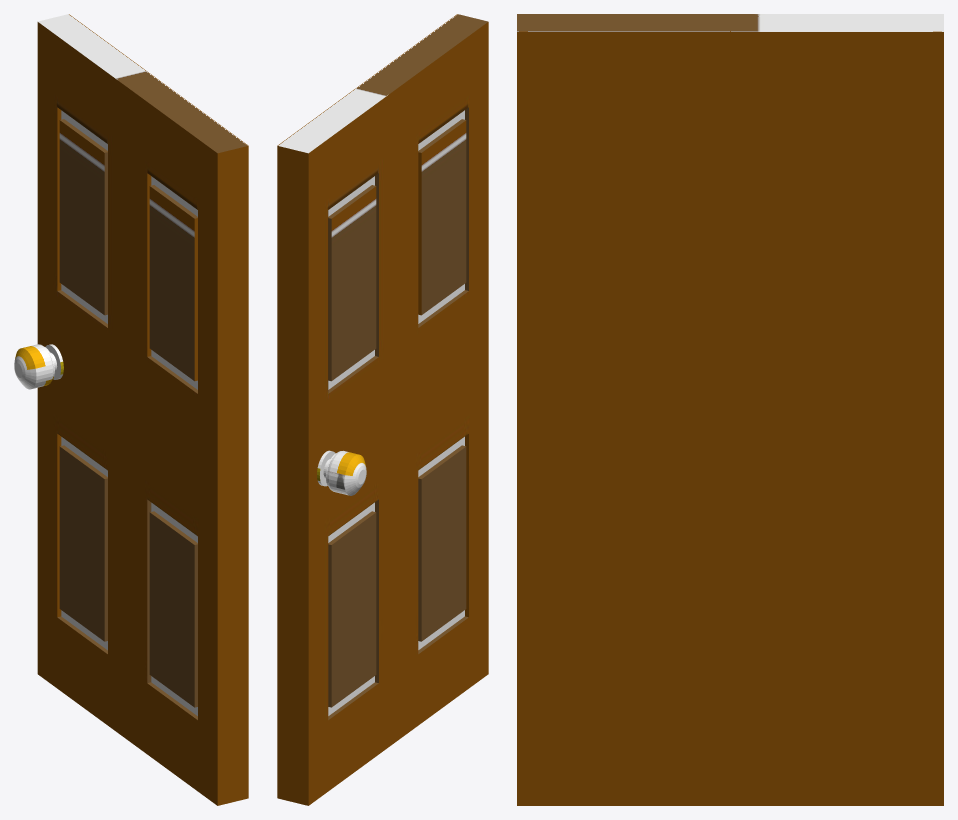
The model's file is puerta2.obj.
3 views of the same model, side by side, from view 1: azimuth 30°, elevation 25°; view 2: azimuth 150°, elevation 25°; view 3: azimuth 270°, elevation 25° (orthographic). The views are drawn at different scales.
Parts seen in each view (by area): view 1: Cube_Cube.001; view 2: Cube_Cube.001; view 3: Cube_Cube.001.
Boxes of the visible parts, box(x1,y1,x2,y2) form: Cube_Cube.001: box(14, 14, 248, 805); Cube_Cube.001: box(277, 14, 488, 805); Cube_Cube.001: box(517, 14, 943, 805).
Bounding box in the file's own units: 0.2161 × 2 × 1.
